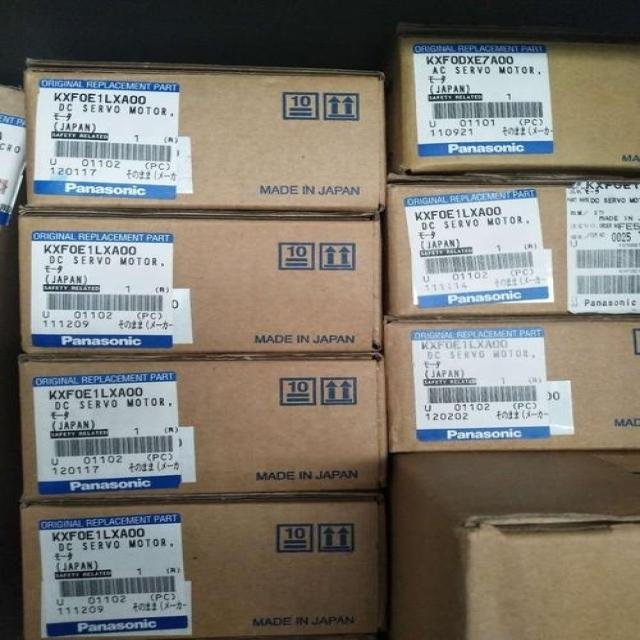box: (30, 60, 384, 214), (18, 356, 384, 500), (18, 495, 387, 637), (17, 213, 381, 353), (384, 450, 637, 639), (389, 33, 639, 180), (383, 320, 637, 454), (382, 182, 639, 314), (0, 84, 24, 241)
